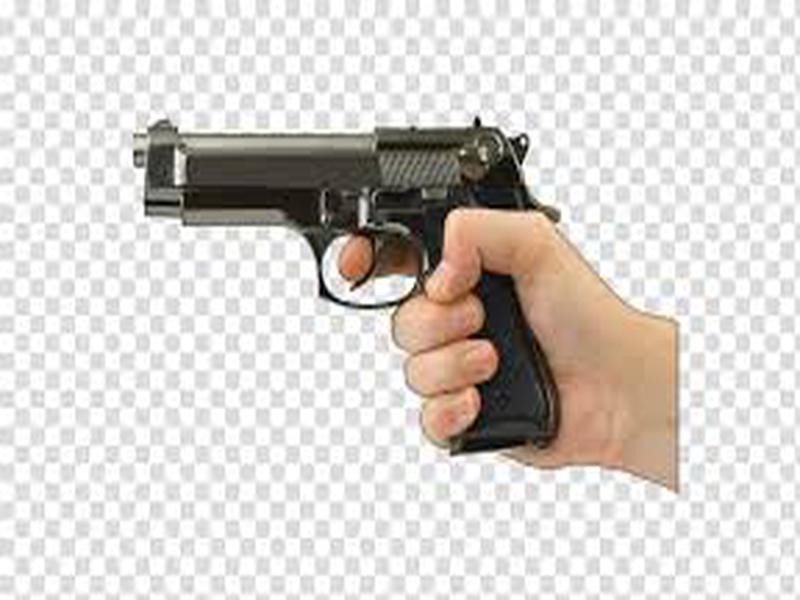gun: (132, 110, 683, 496)
